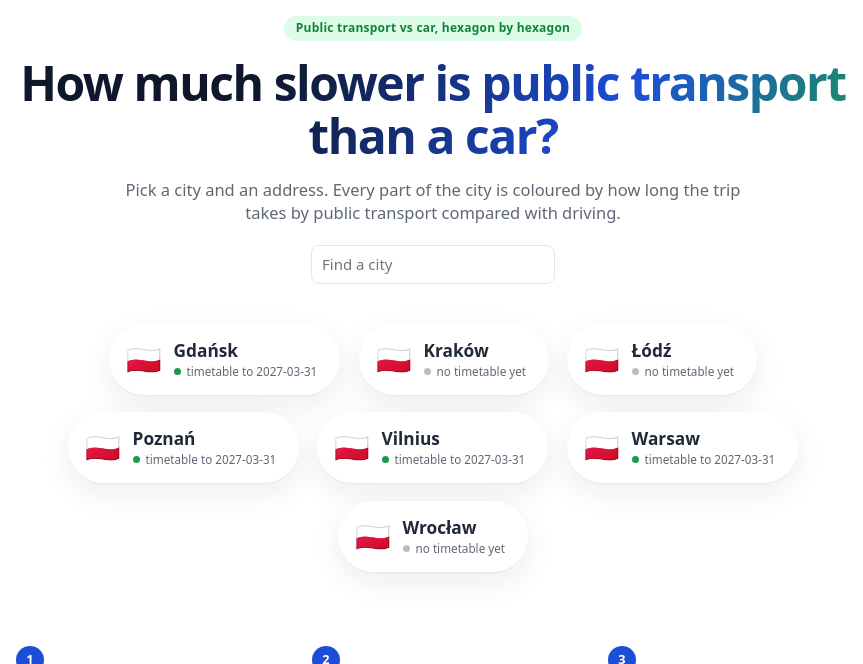
Scenario: home page › filters the cities with the search when there are many
Step 1. Type "w" into the search field labelled "Find a city" → (433, 264), box left=311, top=245, right=555, bottom=284
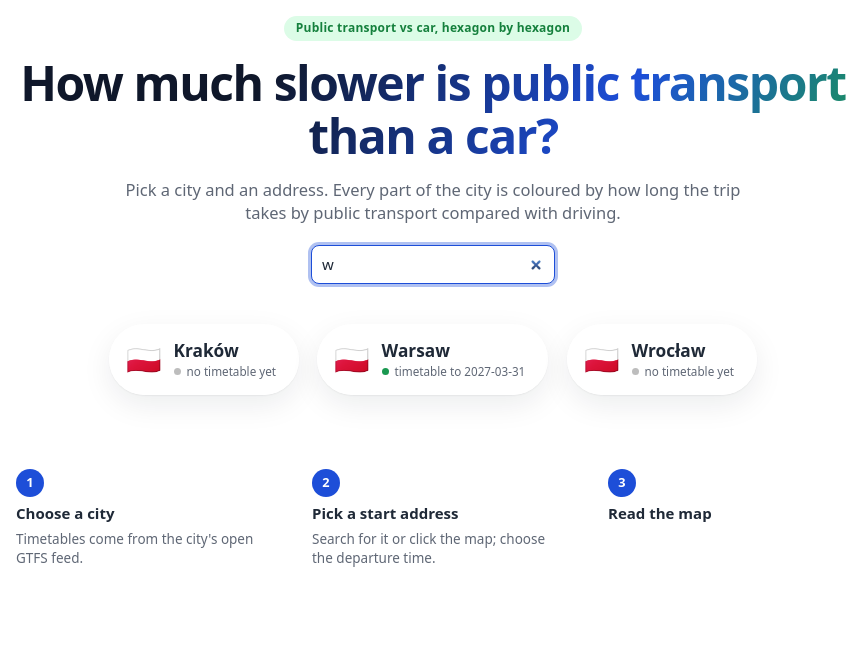
Step 2. Type "xyz" into the search field named "Find a city" → (433, 264), box left=311, top=245, right=555, bottom=284
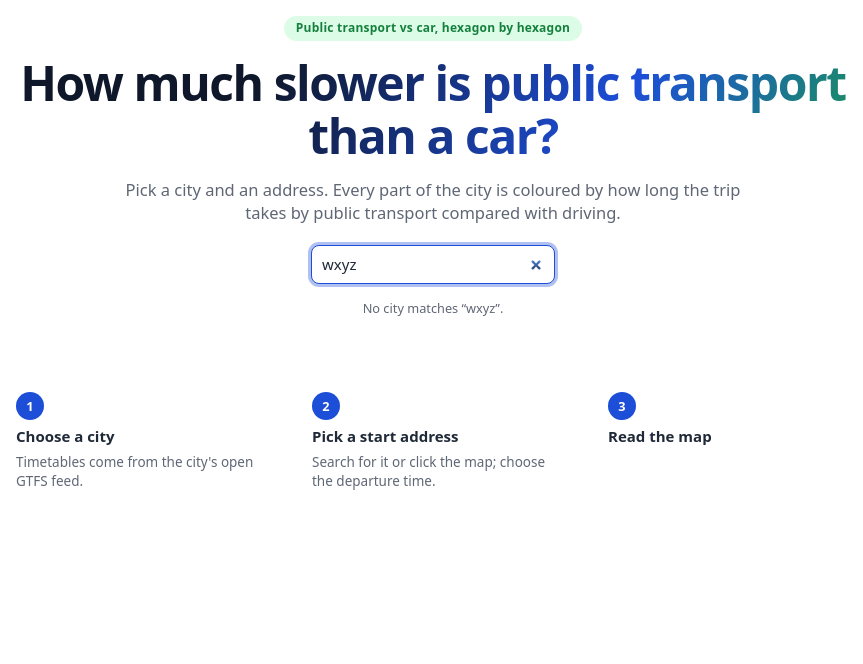
Check: the text "No city matches" is shown, box left=363, top=299, right=466, bottom=317
